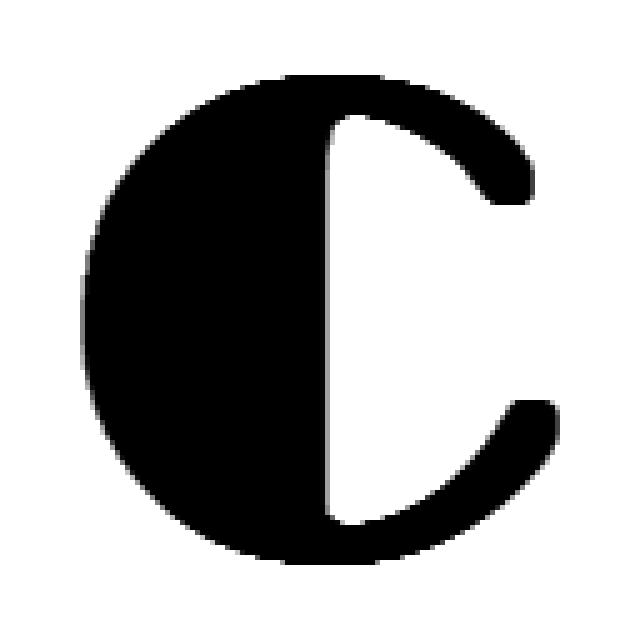C: (85, 80, 560, 565)
